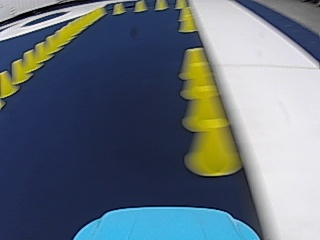cone: (177, 48, 232, 132), (184, 103, 243, 177), (178, 48, 212, 91), (178, 6, 196, 32), (0, 70, 16, 96), (10, 59, 26, 84), (20, 50, 37, 73), (33, 41, 47, 64), (112, 2, 125, 15), (134, 0, 147, 12), (155, 0, 167, 10)
